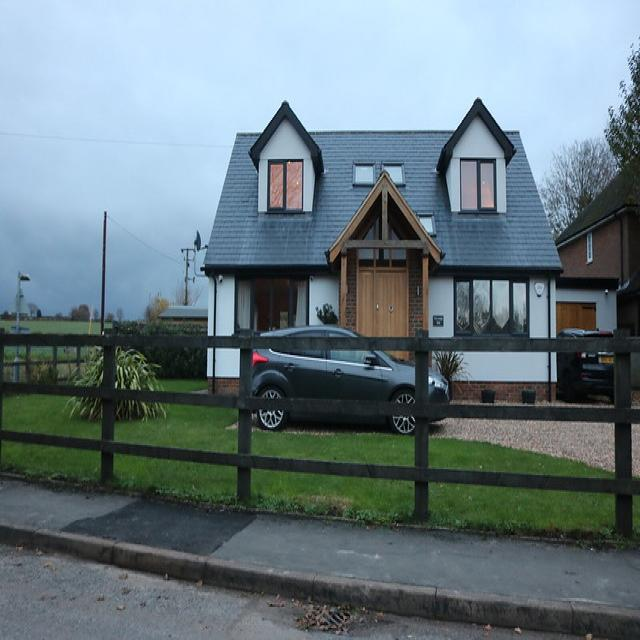Normal_building: (203, 96, 561, 421)
